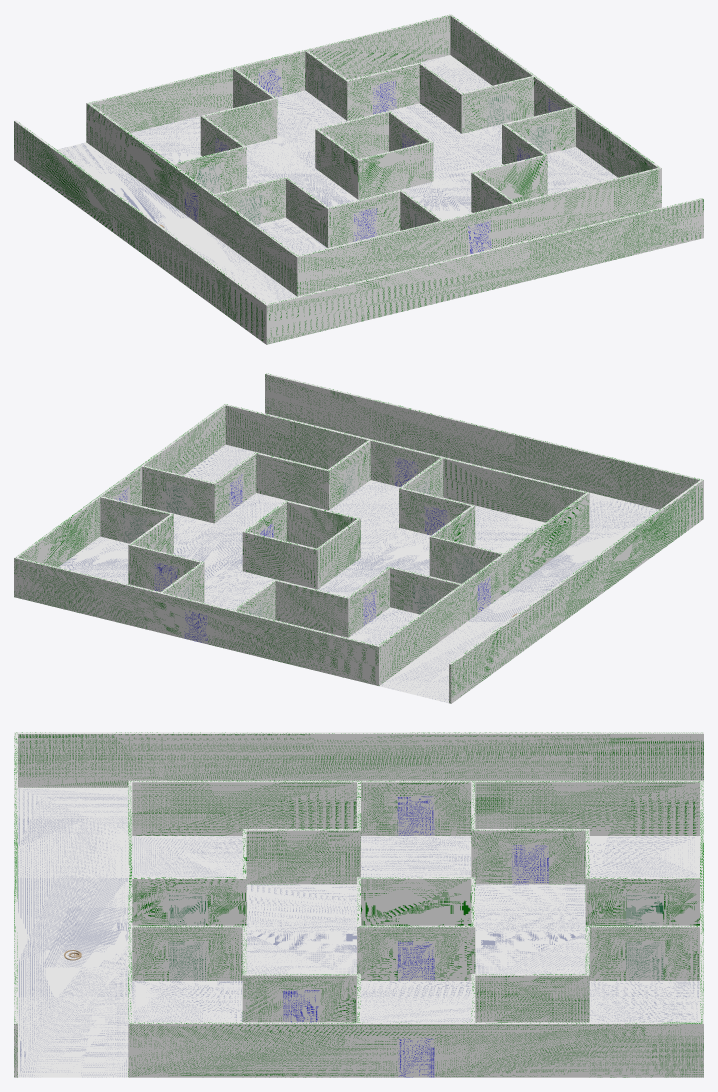
The picture shows the model from 3 angles, top to bottom: view 1: azimuth 30°, elevation 25°; view 2: azimuth 150°, elevation 25°; view 3: azimuth 270°, elevation 25°; orthographic projection. The views are drawn at different scales.
Visible parts, largest first — view 1: SketchUp (×23); view 2: SketchUp (×23); view 3: SketchUp (×24).
Boxes of the visible parts, x1=… form: SketchUp (×23): x1=14, y1=14, x2=703, y2=344; SketchUp (×23): x1=14, y1=373, x2=703, y2=703; SketchUp (×24): x1=14, y1=732, x2=703, y2=1077.
Size of the model in its own units: 1050 by 1050 by 90.
